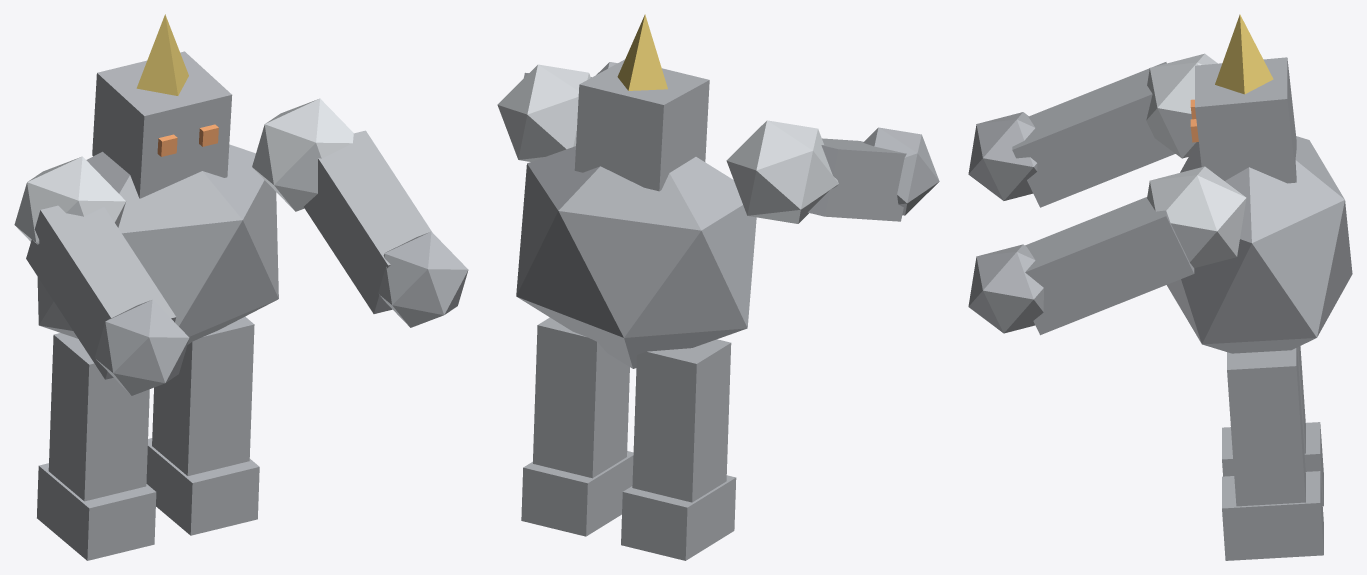
The model's file is npcpose_golem_attack_00.glb.
3 views of the same model, side by side, from view 1: azimuth 30°, elevation 25°; view 2: azimuth 150°, elevation 25°; view 3: azimuth 270°, elevation 25° (orthographic). The views are drawn at different scales.
Visible parts, largest first — view 1: npcpose; view 2: npcpose; view 3: npcpose.
Boxes of the visible parts, <box> form: npcpose: <box>14,14,468,560</box>; npcpose: <box>497,14,939,560</box>; npcpose: <box>968,14,1352,560</box>.
Size of the model in its own units: 1.38 by 1.93 by 1.32.
